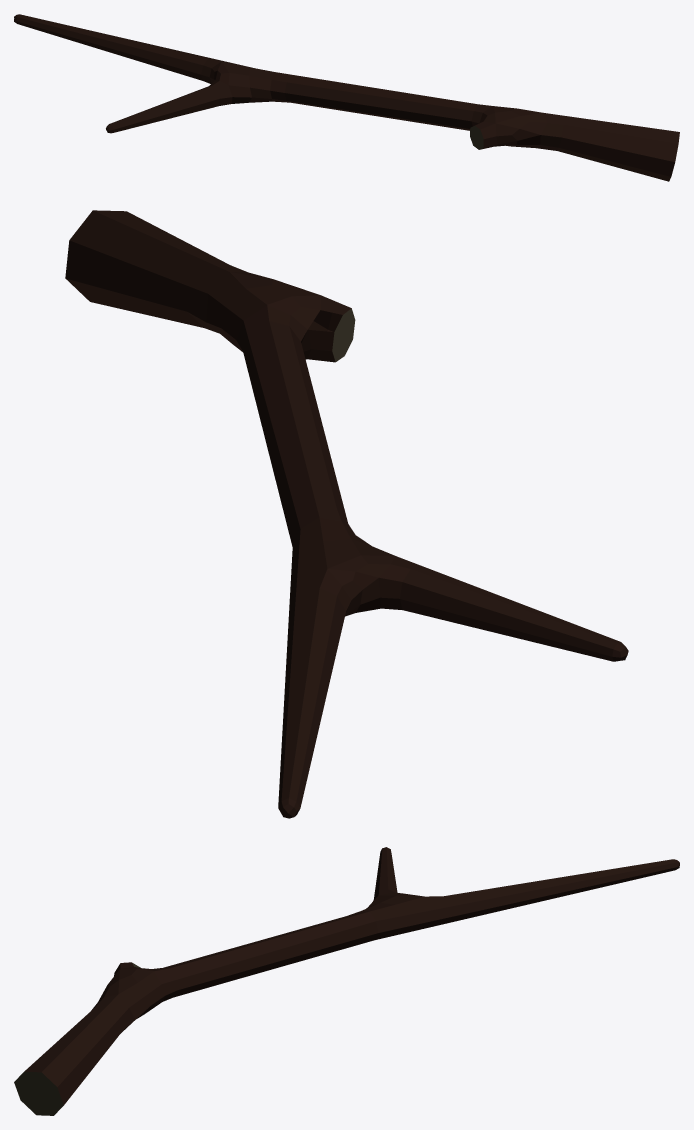
File: SM_Tree14.fbx
3 views of the same model, one above another, from view 1: azimuth 30°, elevation 25°; view 2: azimuth 150°, elevation 25°; view 3: azimuth 270°, elevation 25° (orthographic). The views are drawn at different scales.
Visible parts, largest first — view 1: Tree13; view 2: Tree13; view 3: Tree13.
Boxes of the visible parts, x1,y1,x2,y2 form: Tree13: [14, 14, 679, 181]; Tree13: [65, 210, 628, 818]; Tree13: [14, 847, 679, 1115].
Bounding box in the file's own units: 168 × 25.64 × 202.
